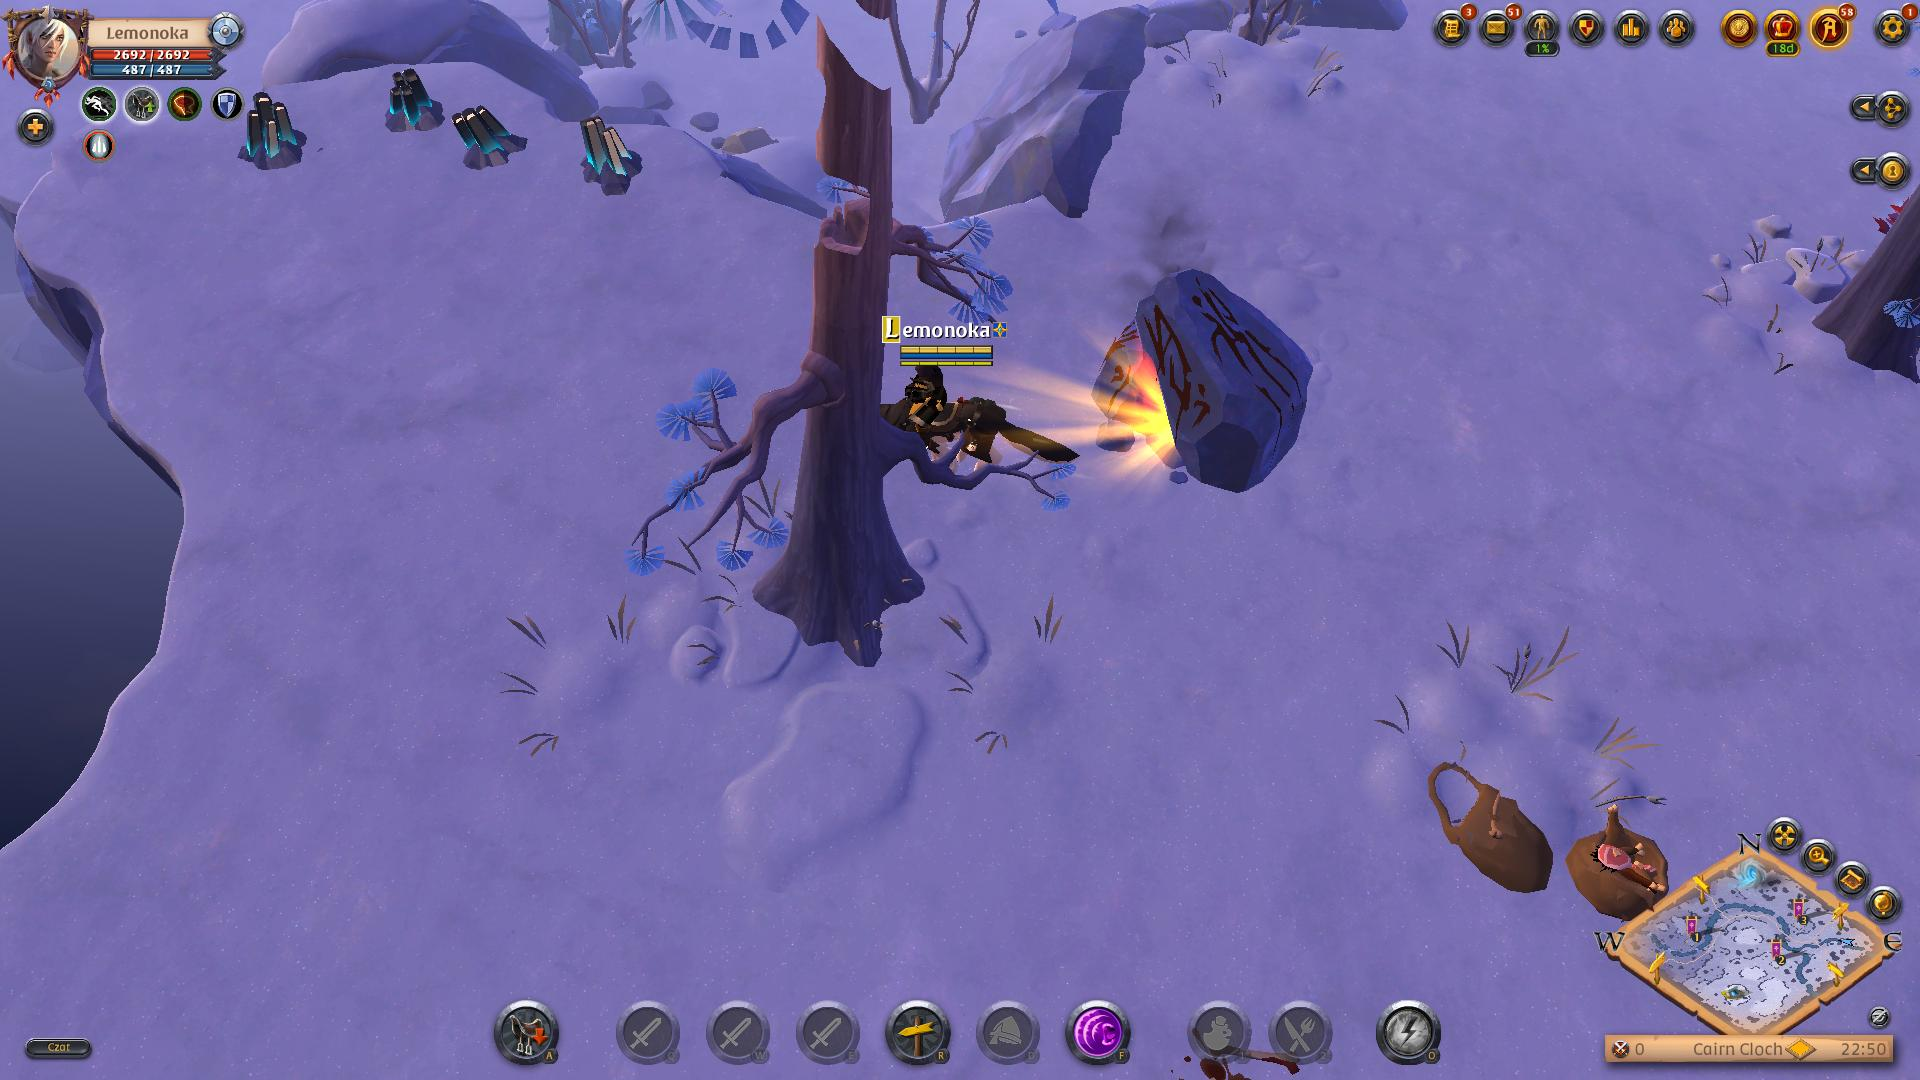ore tier 4: (564, 115, 645, 195), (451, 102, 527, 178), (378, 61, 446, 146), (241, 90, 311, 171)
